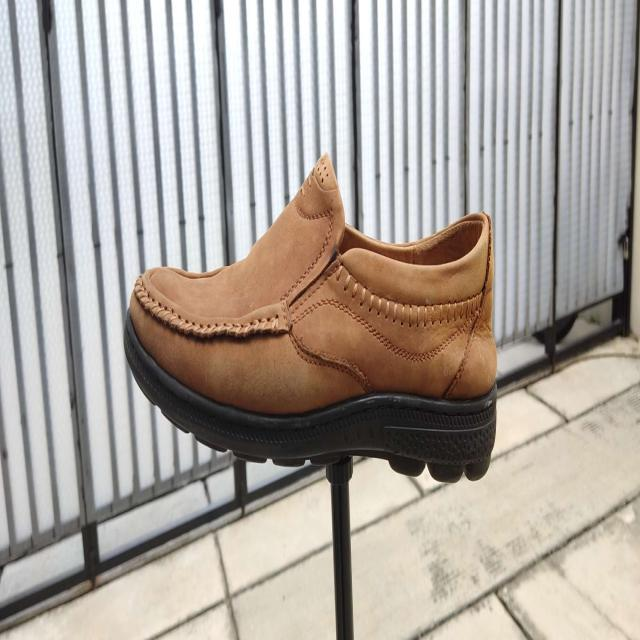shoes: (121, 150, 498, 485)
